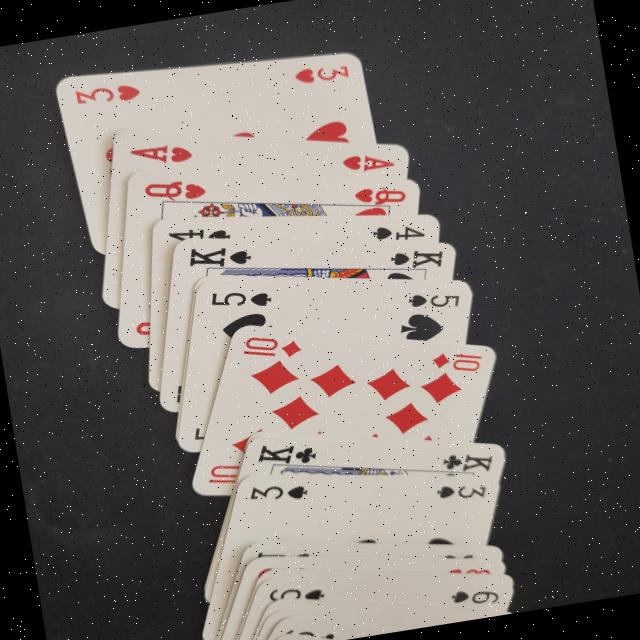10d: (240, 325, 308, 369), (425, 342, 486, 384)
3h: (72, 77, 150, 114), (290, 58, 354, 90)
3s: (244, 474, 316, 512), (429, 476, 494, 511)
4s: (362, 213, 433, 252), (163, 218, 234, 252)
5s: (200, 280, 280, 320), (402, 282, 468, 320)
6s: (262, 578, 335, 616), (444, 580, 504, 617)
Ah: (125, 136, 202, 180), (335, 145, 401, 182)
Kc: (252, 435, 326, 474), (436, 442, 498, 482)
Ks: (181, 238, 255, 276), (387, 243, 449, 276)
Qh: (139, 170, 216, 212), (348, 177, 416, 218)
